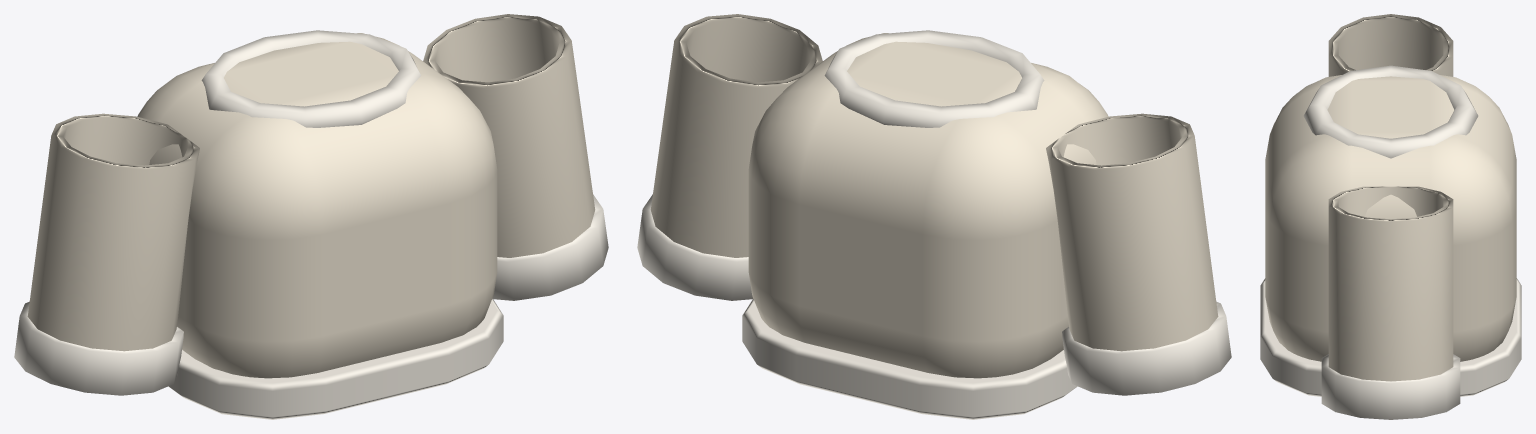
The model's file is aran_knit_sweater.glb.
3 renders of one model, left to right at view 1: azimuth 30°, elevation 25°; view 2: azimuth 150°, elevation 25°; view 3: azimuth 270°, elevation 25°, orthographic. The views are drawn at different scales.
Parts seen in each view (by area): view 1: aran_knit_sweater_Body, aran_knit_sweater_ArmL, aran_knit_sweater_ArmR; view 2: aran_knit_sweater_Body, aran_knit_sweater_ArmL, aran_knit_sweater_ArmR; view 3: aran_knit_sweater_Body, aran_knit_sweater_ArmR, aran_knit_sweater_ArmL.
Part boxes in pixels (box(x1,y1,x2,y2)): aran_knit_sweater_Body: box(137, 30, 503, 419); aran_knit_sweater_ArmL: box(14, 113, 199, 395); aran_knit_sweater_ArmR: box(423, 14, 608, 300); aran_knit_sweater_Body: box(742, 30, 1108, 419); aran_knit_sweater_ArmL: box(1046, 113, 1231, 395); aran_knit_sweater_ArmR: box(637, 14, 822, 300); aran_knit_sweater_Body: box(1260, 65, 1521, 396); aran_knit_sweater_ArmR: box(1321, 186, 1460, 419); aran_knit_sweater_ArmL: box(1328, 14, 1453, 76).
Size of the model in its own units: 0.6504 by 0.3119 by 0.302.
